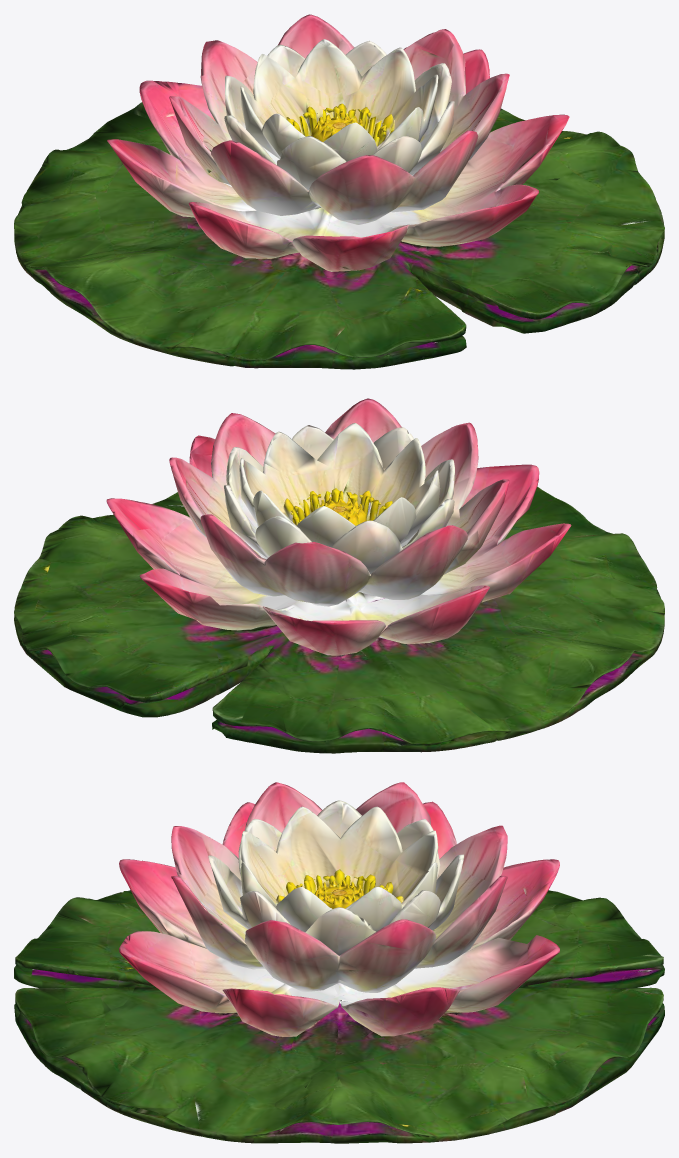
Rendered from waterLily.glb.
The picture shows the model from 3 angles, top to bottom: view 1: azimuth 30°, elevation 25°; view 2: azimuth 150°, elevation 25°; view 3: azimuth 270°, elevation 25°; orthographic projection. The views are drawn at different scales.
Size of the model in its own units: 1 by 0.2751 by 0.9746.
1 material, 1 textured.
